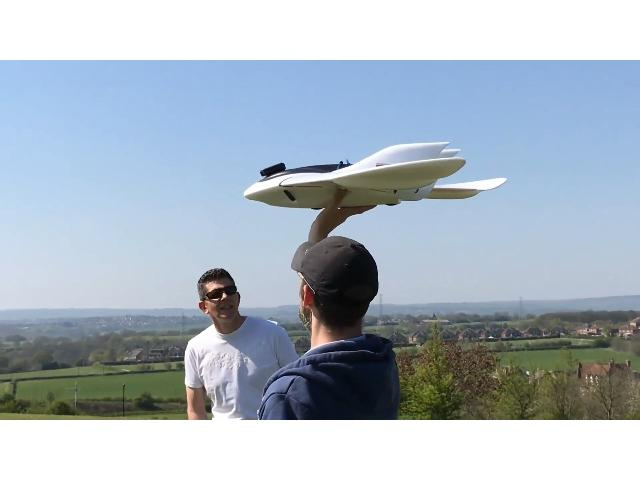Anti-Drone: (214, 110, 560, 232)
